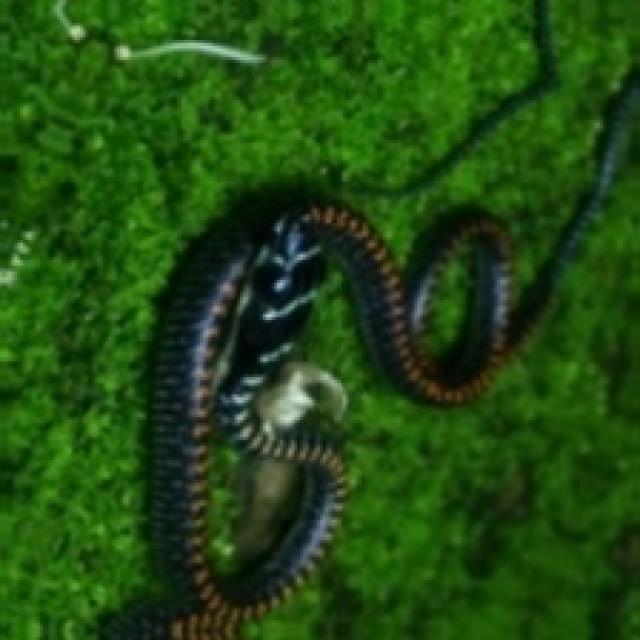paradise tree snake: (151, 189, 294, 637), (506, 69, 637, 346), (306, 206, 474, 400)
